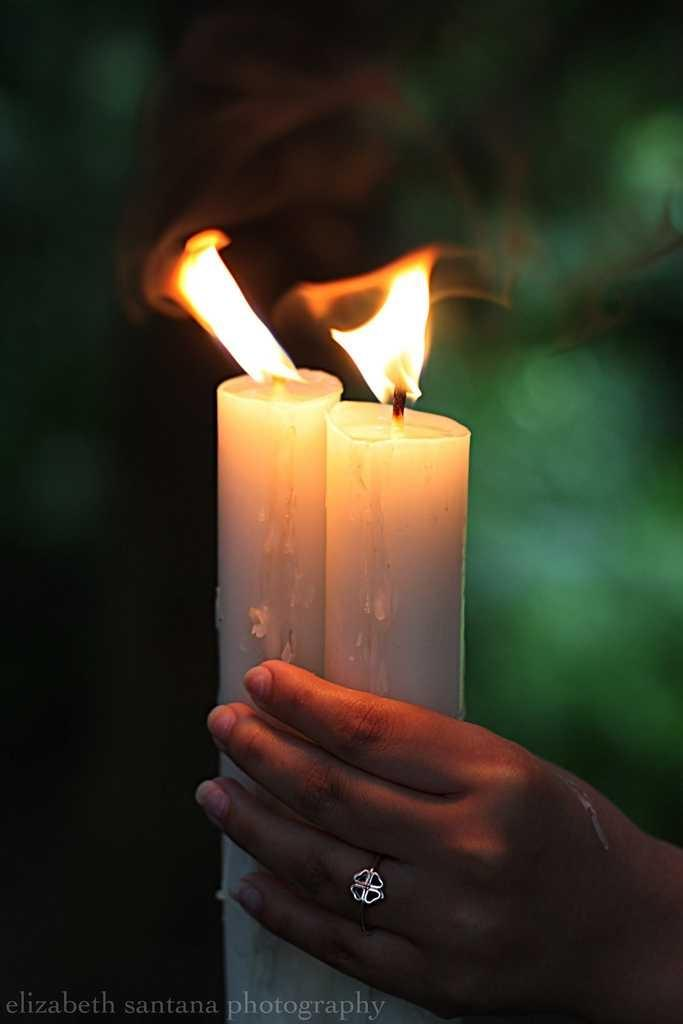fire: (185, 262, 253, 332), (367, 312, 420, 378)
